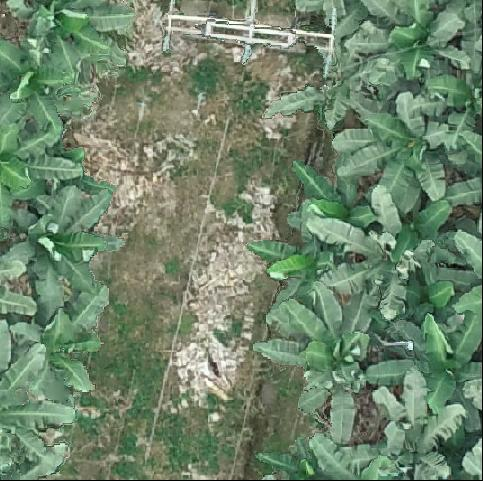Banana-plant: (255, 279, 394, 443), (297, 183, 455, 317), (0, 183, 129, 319), (326, 90, 452, 218), (367, 300, 483, 415), (0, 284, 110, 399), (0, 321, 80, 479), (338, 0, 472, 90), (0, 0, 134, 86), (0, 38, 99, 148), (363, 376, 466, 481), (267, 48, 400, 128), (0, 111, 84, 229), (245, 219, 350, 308), (284, 149, 384, 235), (419, 44, 483, 157), (394, 266, 456, 324)
